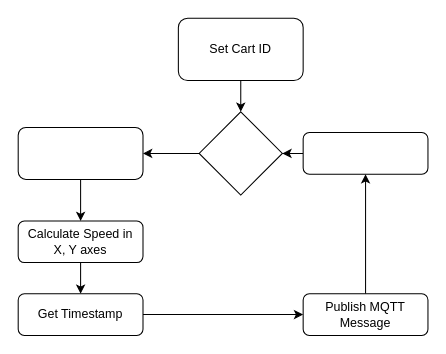
This 446x354 diagram has some shape labels left out. Each missing label, with the centre of its shape:
Get Acceleration in X,Y axes: the point at 80,152
Sleep 1 0ms: the point at 365,153
